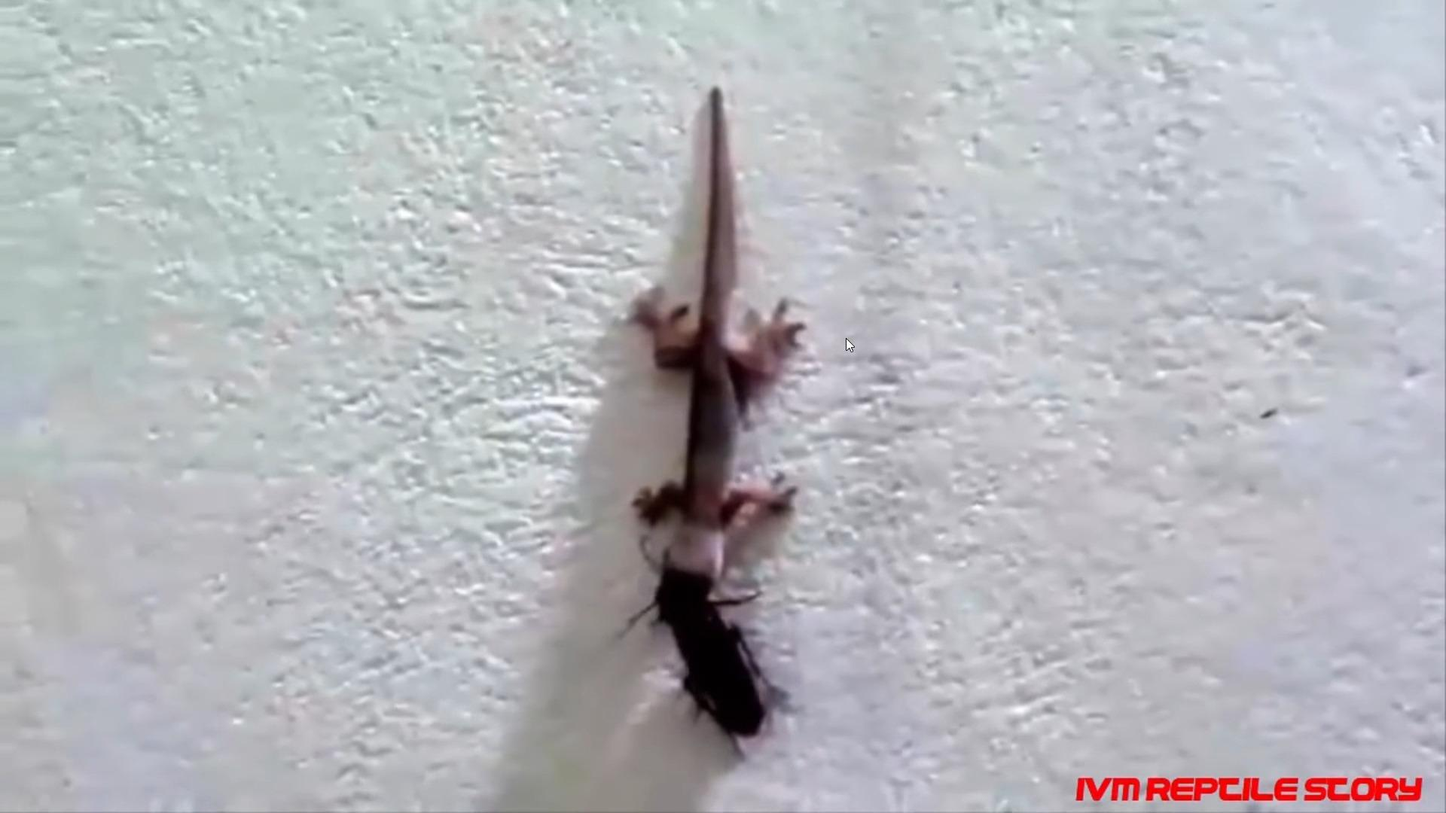cockroach: (638, 568, 777, 745)
lizard: (603, 131, 810, 589)
